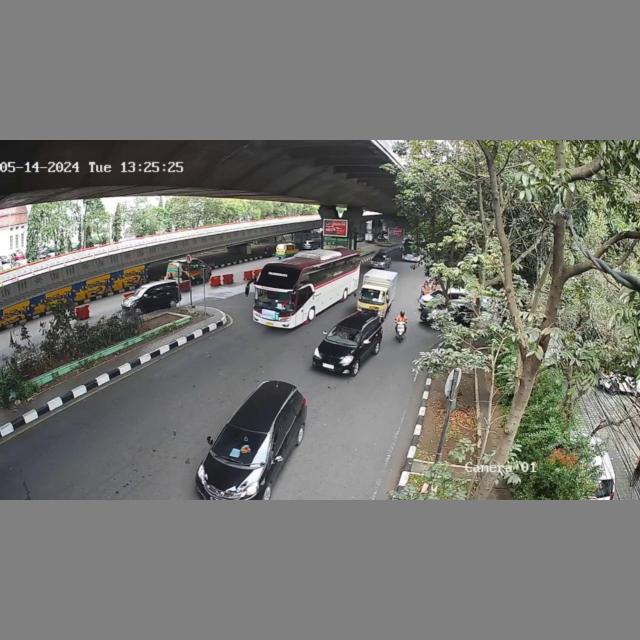windshield: (209, 426, 275, 468), (329, 323, 361, 345)
